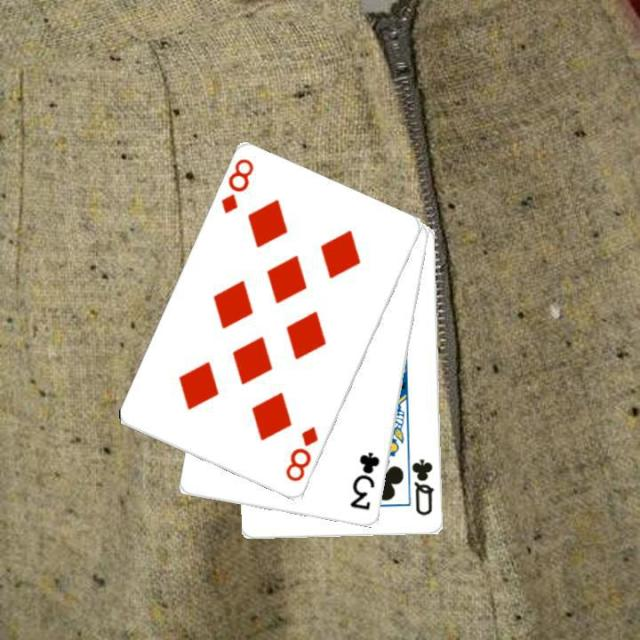3C: (347, 449, 382, 513)
8D: (282, 422, 321, 484), (217, 155, 256, 216)
QC: (409, 455, 435, 517)
